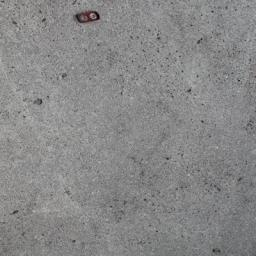FOD: (75, 9, 102, 25)
